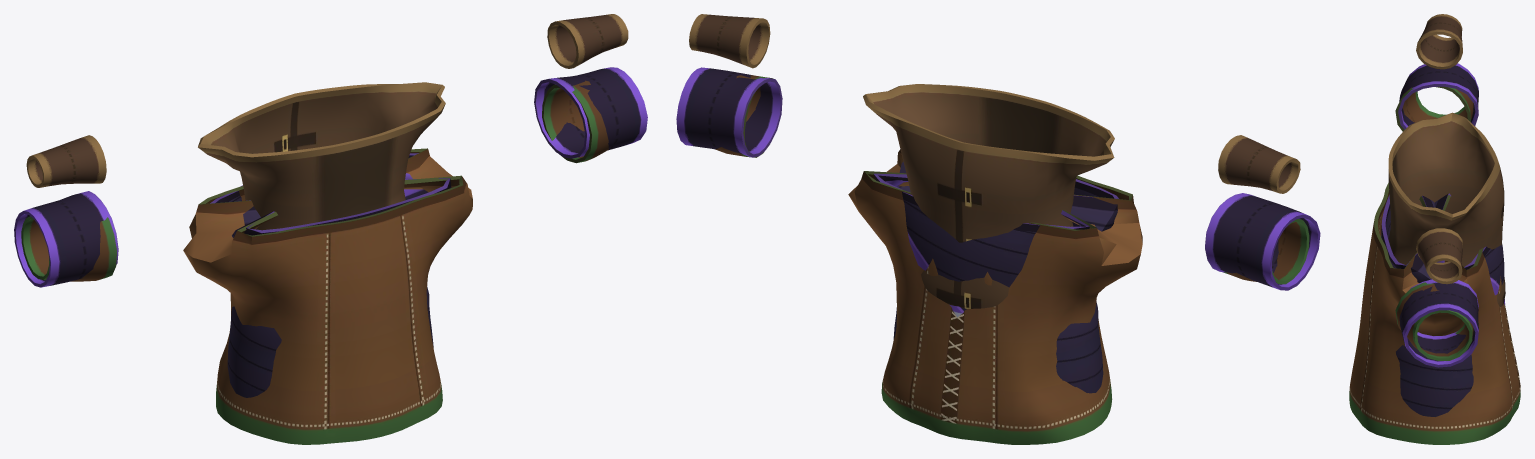
File: outfits.glb
The picture shows the model from 3 angles, left to right: view 1: azimuth 30°, elevation 25°; view 2: azimuth 150°, elevation 25°; view 3: azimuth 270°, elevation 25°; orthographic projection. The views are drawn at different scales.
Parts seen in each view (by area): view 1: archer, ranger, assassin; view 2: archer, ranger, assassin; view 3: archer, ranger, assassin.
Boxes of the visible parts, <box> form: archer: <box>21,80,608,444</box>; ranger: <box>26,14,628,230</box>; assassin: <box>14,67,647,397</box>; archer: <box>715,75,1309,444</box>; ranger: <box>689,14,1300,308</box>; assassin: <box>676,67,1320,393</box>; archer: <box>1349,86,1520,444</box>; ranger: <box>1388,14,1505,306</box>; assassin: <box>1381,63,1505,416</box>.
Size of the model in its own units: 1.22 by 0.6246 by 0.3547.
5 materials, 5 textured.
